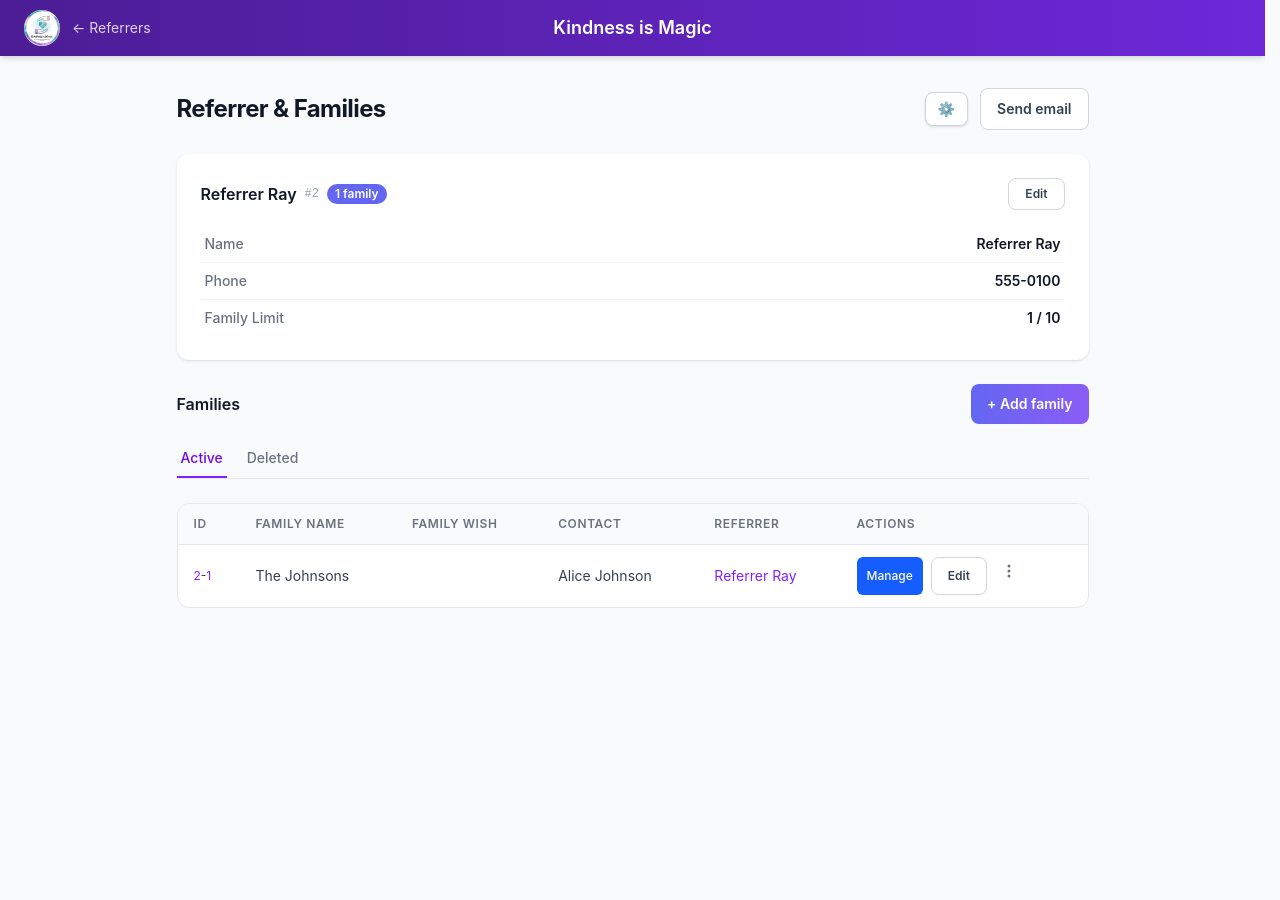
Scenario: AdminReferrerFamilies › header Send email opens the composer prefilled with the referrer email
Expected: the text "The Johnsons" is shown, x1=239 y1=544 x2=396 y2=607
Click the button "Send email" at x=1034, y=109, box x1=980 y1=88 x2=1088 y2=130
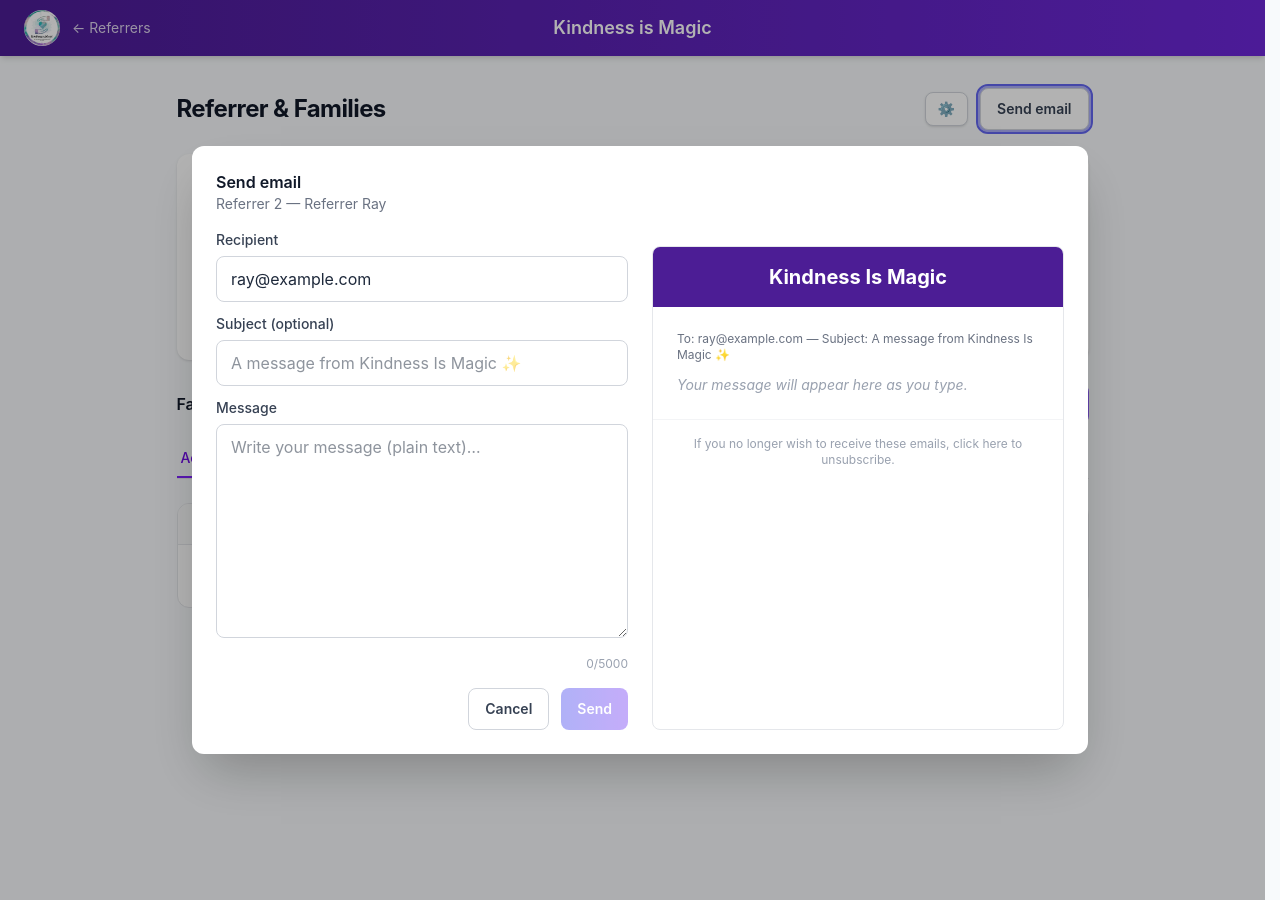
Now the heading "Send email" is shown, box x1=216 y1=172 x2=301 y2=192
Now the text "Referrer 2 — Referrer Ray" is shown, box x1=216 y1=195 x2=386 y2=212
Now the field labelled "Recipient" holds "ray@example.com", box x1=216 y1=256 x2=628 y2=302
